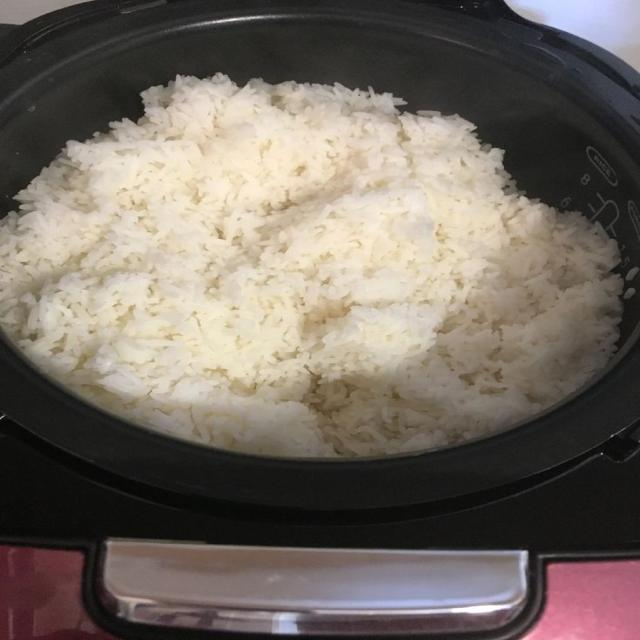rice: (0, 75, 622, 456)
